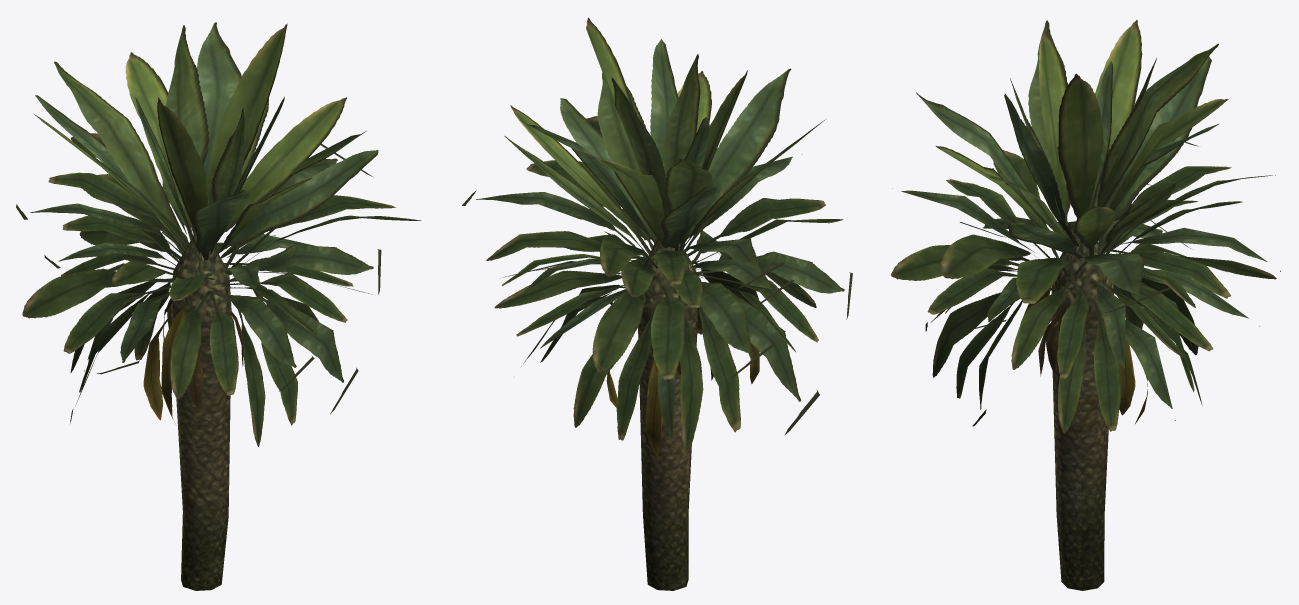
File: SV_PLT_shamo_plant_3.FBX
3 renders of one model, left to right at view 1: azimuth 30°, elevation 25°; view 2: azimuth 150°, elevation 25°; view 3: azimuth 270°, elevation 25°, orthographic.
Visible parts, largest first — view 1: SV_PLT_shamo_plant_3_leaf, SV_PLT_shamo_plant_3_trunk; view 2: SV_PLT_shamo_plant_3_leaf, SV_PLT_shamo_plant_3_trunk; view 3: SV_PLT_shamo_plant_3_leaf, SV_PLT_shamo_plant_3_trunk.
Boxes of the visible parts, left/top/right/bottom form: SV_PLT_shamo_plant_3_leaf: left=16, top=22, right=421, bottom=446; SV_PLT_shamo_plant_3_trunk: left=171, top=235, right=231, bottom=590; SV_PLT_shamo_plant_3_leaf: left=462, top=17, right=852, bottom=456; SV_PLT_shamo_plant_3_trunk: left=638, top=238, right=698, bottom=590; SV_PLT_shamo_plant_3_leaf: left=891, top=20, right=1280, bottom=433; SV_PLT_shamo_plant_3_trunk: left=1051, top=233, right=1113, bottom=590.
Bounding box in the file's own units: 1.57 × 2.35 × 1.53.
